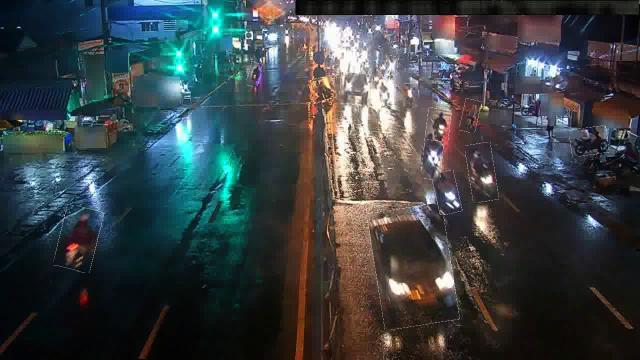Bike: (57, 206, 101, 272), (467, 142, 497, 202), (434, 171, 460, 215), (570, 127, 608, 156), (422, 132, 442, 180), (426, 108, 450, 142), (308, 77, 336, 102), (460, 100, 480, 132), (380, 76, 392, 106), (247, 62, 261, 86), (404, 84, 418, 106), (386, 56, 398, 75)
Car: (371, 204, 455, 328), (340, 73, 372, 105)
